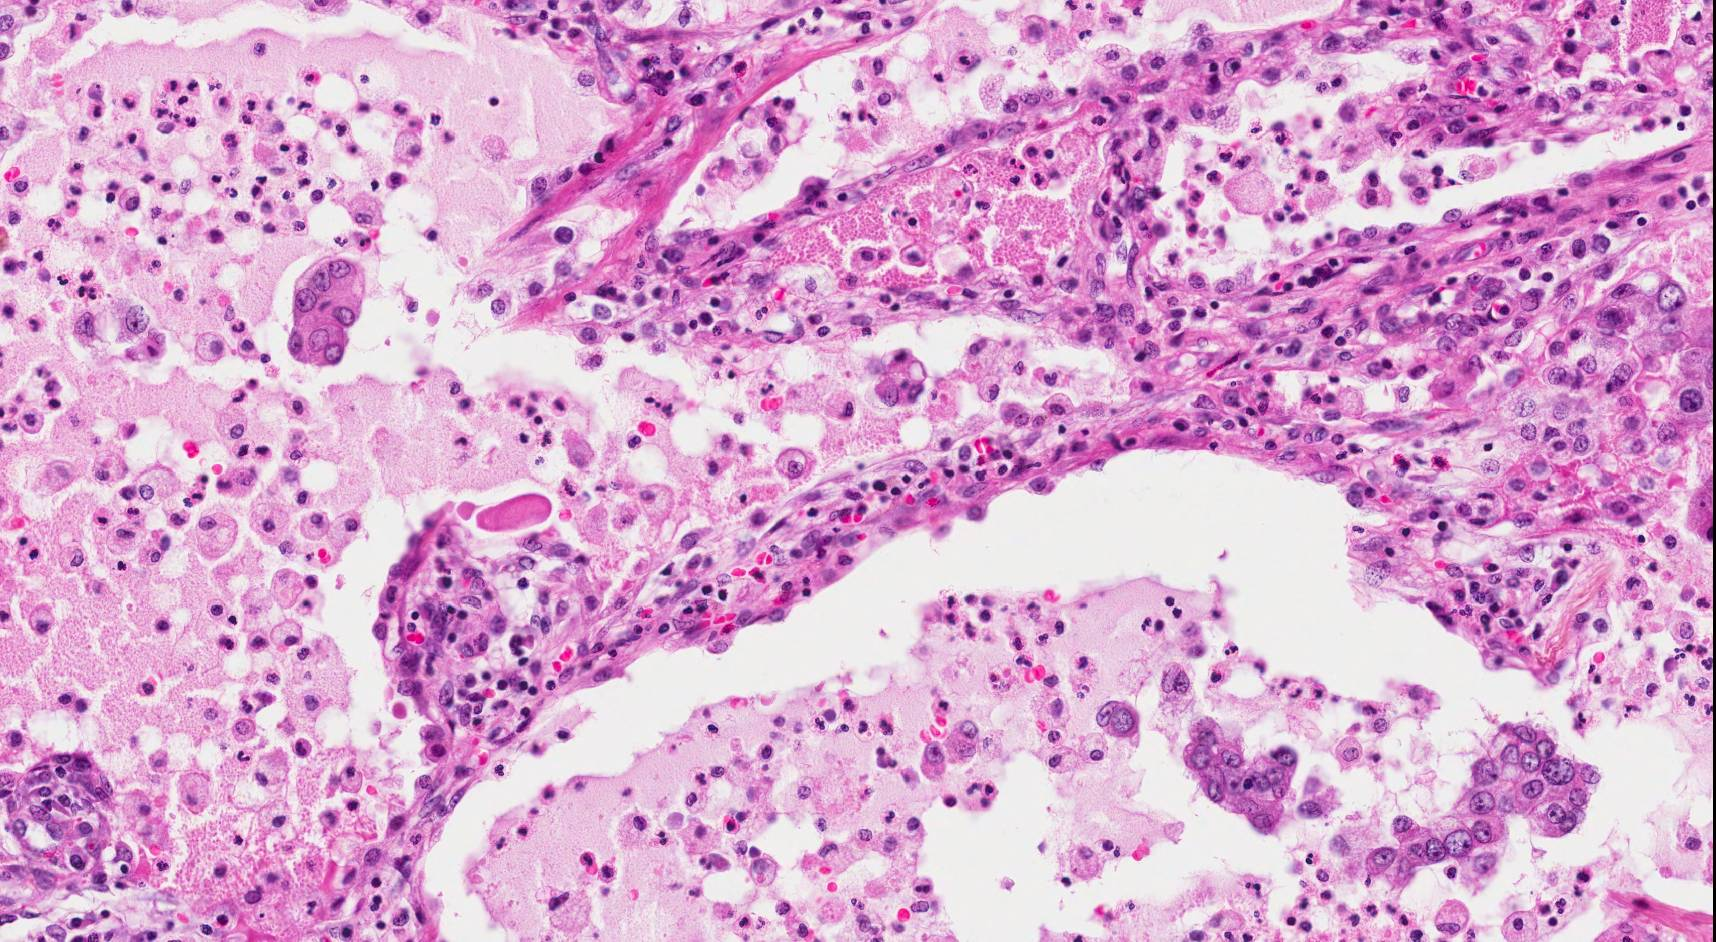stas: (1362, 716, 1611, 895), (1178, 713, 1300, 835), (284, 254, 367, 369), (917, 723, 987, 780), (873, 344, 931, 410), (1096, 692, 1146, 744)
